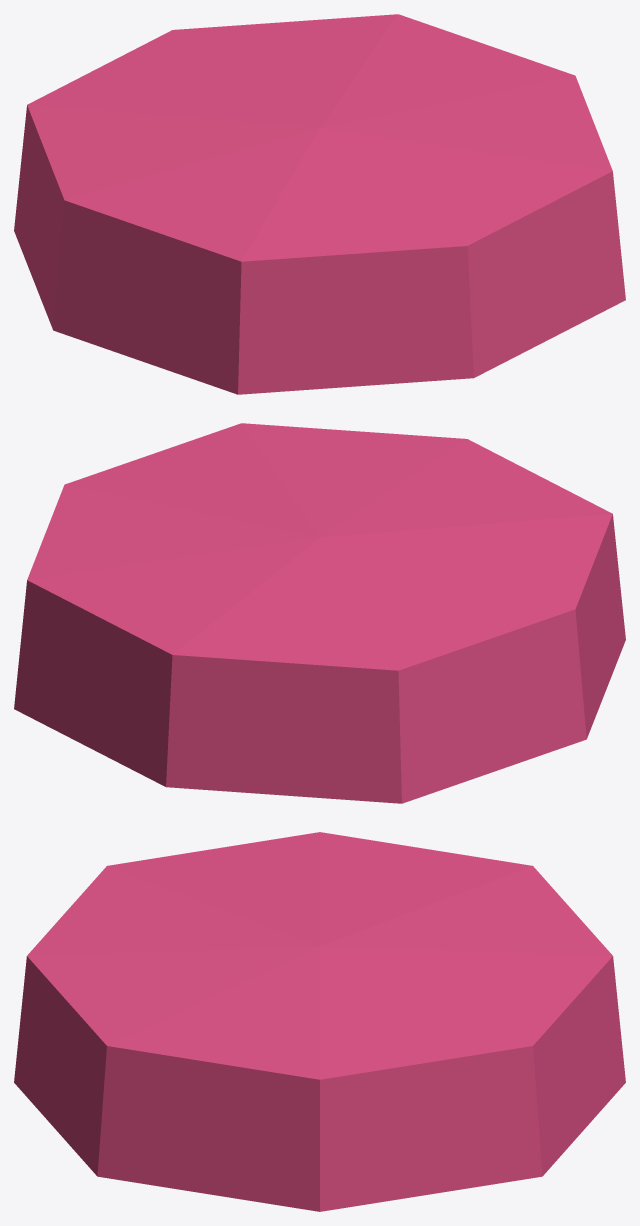
Rendered from Shaft.glb.
3 views of the same model, one above another, from view 1: azimuth 30°, elevation 25°; view 2: azimuth 150°, elevation 25°; view 3: azimuth 270°, elevation 25° (orthographic).
Visible parts, largest first — view 1: Shaft.001; view 2: Shaft.001; view 3: Shaft.001.
Part boxes in pixels (left/top/right/bottom): Shaft.001: left=14, top=14, right=625, bottom=394; Shaft.001: left=14, top=423, right=625, bottom=803; Shaft.001: left=14, top=832, right=625, bottom=1211.
Size of the model in its own units: 0.6111 by 0.1515 by 0.6111.
